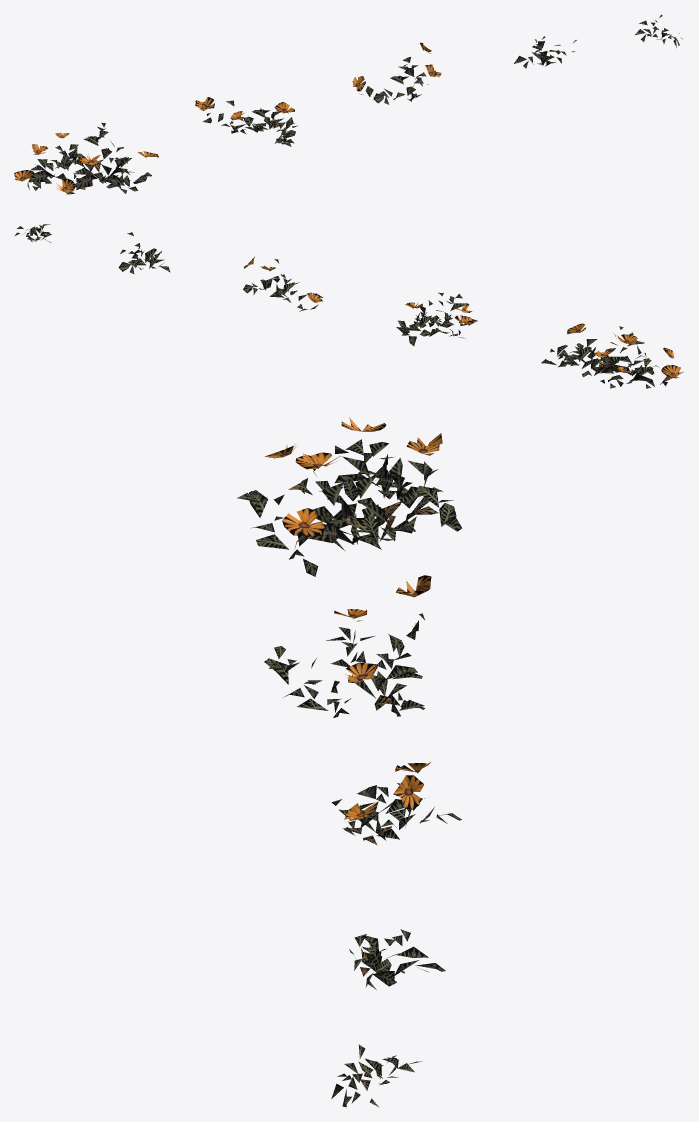
Rendered from flower_ursinia.glb.
The picture shows the model from 3 angles, top to bottom: view 1: azimuth 30°, elevation 25°; view 2: azimuth 150°, elevation 25°; view 3: azimuth 270°, elevation 25°; orthographic projection. The views are drawn at different scales.
Parts seen in each view (by area): view 1: flower_ursinia_a_LOD0; view 2: flower_ursinia_a_LOD0; view 3: flower_ursinia_a_LOD0.
Part boxes in pixels (x1,y1,x2,y2): flower_ursinia_a_LOD0: (14, 14, 682, 194); flower_ursinia_a_LOD0: (14, 224, 683, 388); flower_ursinia_a_LOD0: (237, 417, 461, 1107).
Size of the model in its own units: 2.19 by 0.1561 by 0.3221.
Materials: 1 (1 with a texture image).
